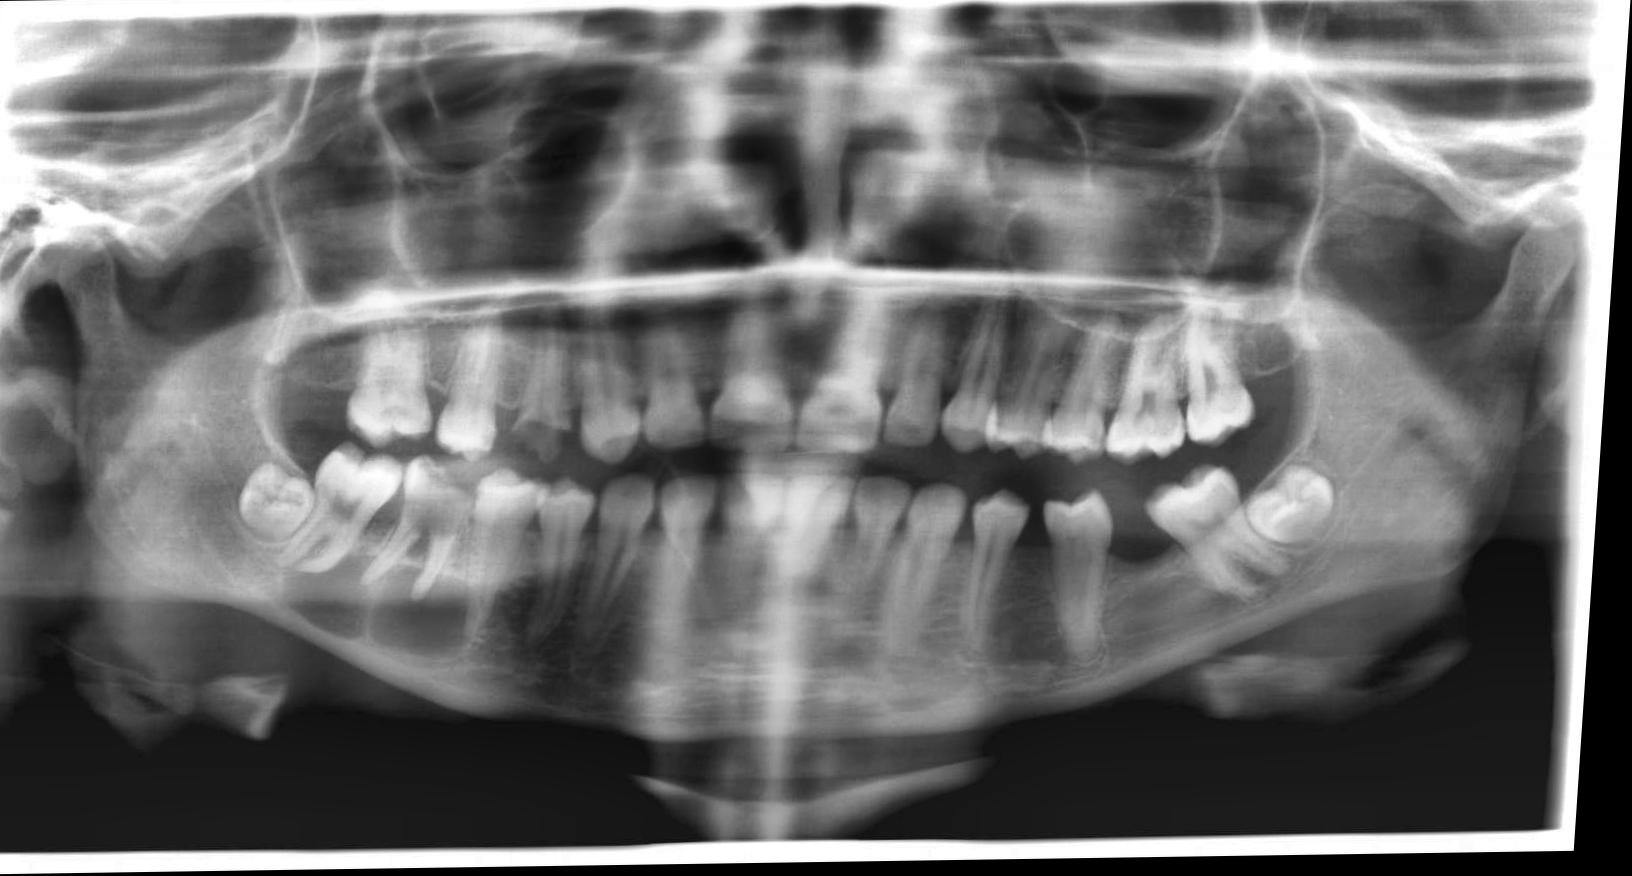radicular: (373, 561, 494, 666), (286, 550, 381, 645)
